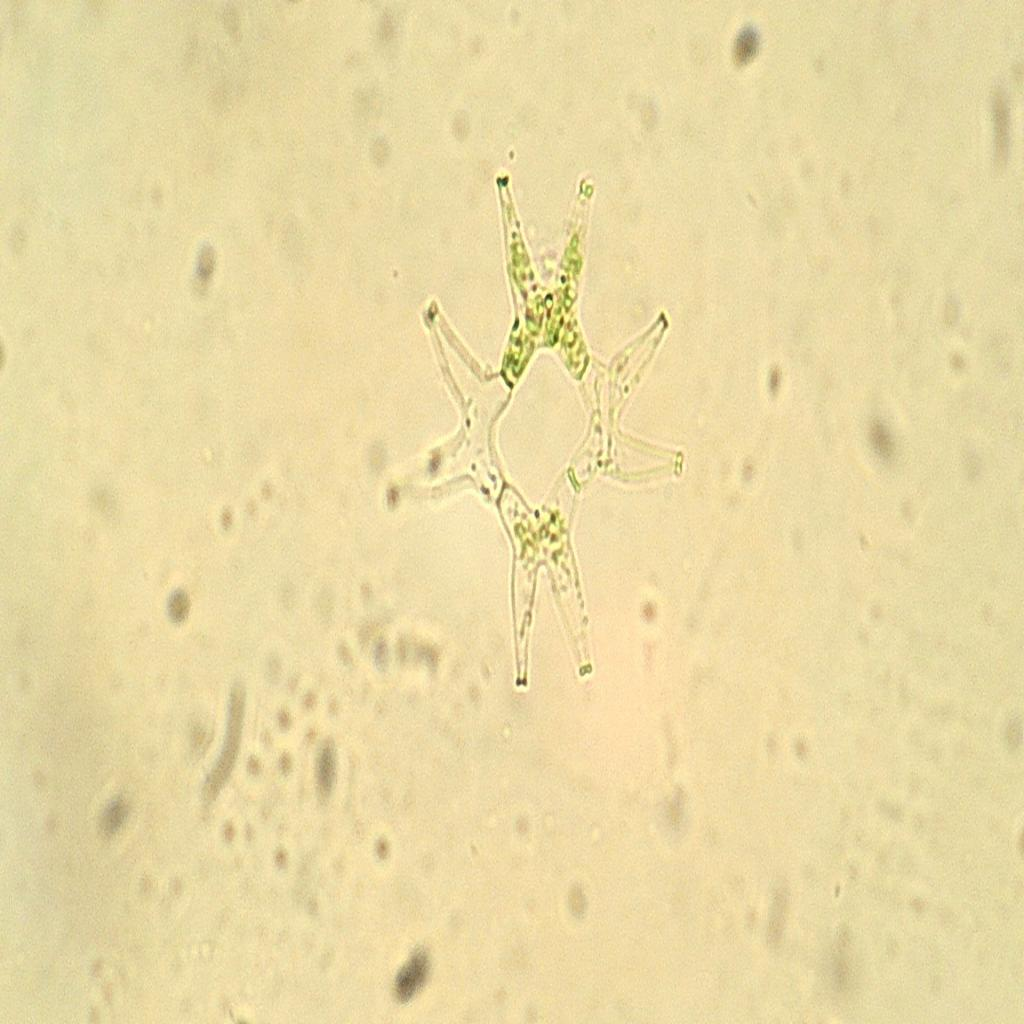Pediastrum_1F0: (384, 154, 694, 714)
